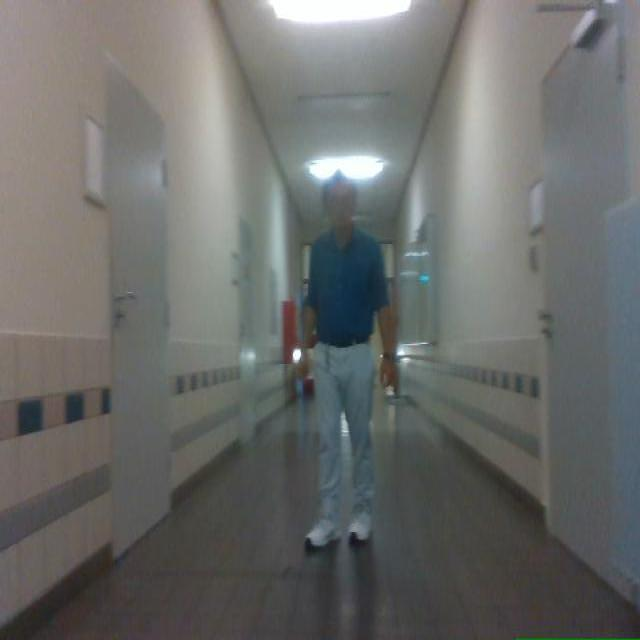humans: (299, 172, 395, 548)
